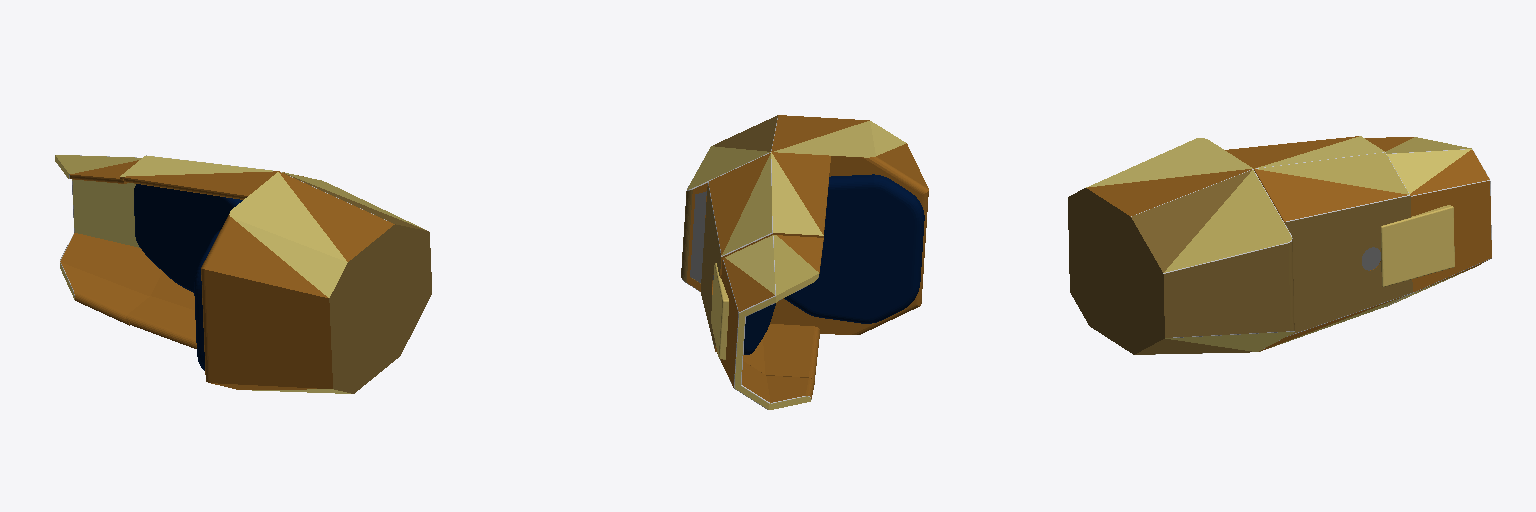
Rendered from bookcast.obj.
3 views of the same model, side by side, from view 1: azimuth 30°, elevation 25°; view 2: azimuth 150°, elevation 25°; view 3: azimuth 270°, elevation 25° (orthographic).
Visible parts, largest first — view 1: bookcast_(v19~recovered); view 2: bookcast_(v19~recovered); view 3: bookcast_(v19~recovered).
Part boxes in pixels (x1,y1,x2,y2): bookcast_(v19~recovered): (55,155,431,393); bookcast_(v19~recovered): (681,115,928,409); bookcast_(v19~recovered): (1068,136,1491,354).
Size of the model in its own units: 11.65 by 8.6 by 18.